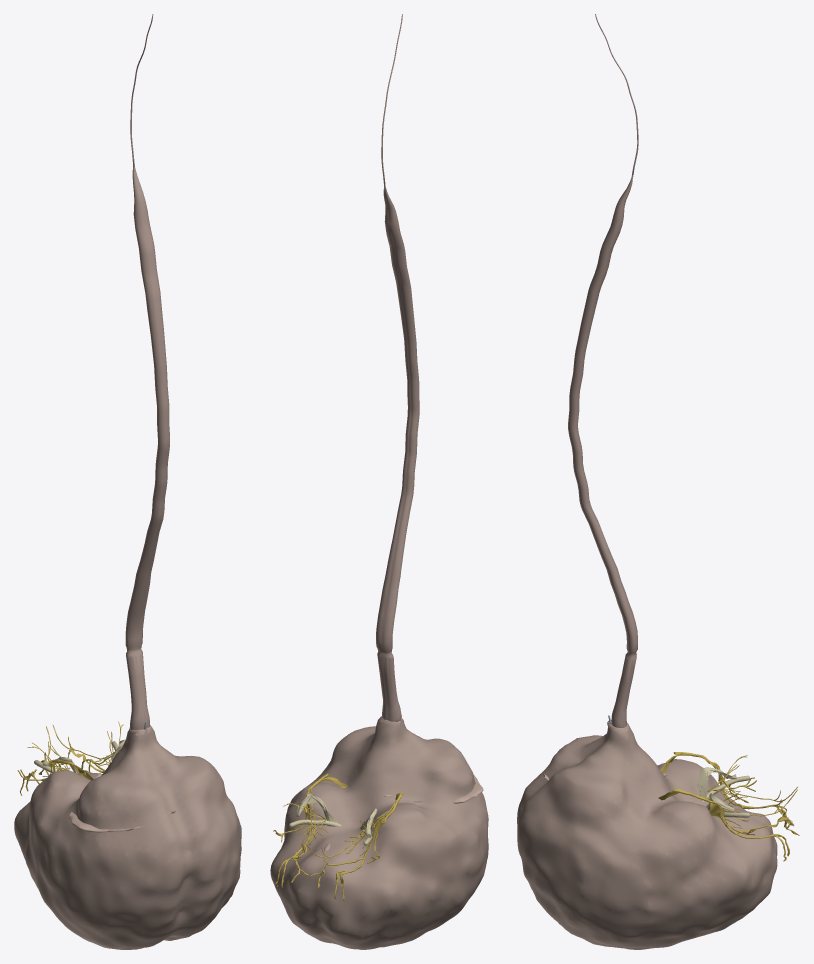
File: nervous.glb
3 views of the same model, side by side, from view 1: azimuth 30°, elevation 25°; view 2: azimuth 150°, elevation 25°; view 3: azimuth 270°, elevation 25° (orthographic). The views are drawn at different scales.
Parts seen in each view (by area): view 1: MOD_arachnoidea_mater, MOD_spinal_cord; view 2: MOD_arachnoidea_mater, MOD_spinal_cord; view 3: MOD_arachnoidea_mater, MOD_spinal_cord.
Boxes of the visible parts, x1,y1,x2,y2 form: MOD_arachnoidea_mater: (14,726,241,949); MOD_spinal_cord: (125,164,169,730); MOD_arachnoidea_mater: (270,716,488,949); MOD_spinal_cord: (376,185,419,721); MOD_arachnoidea_mater: (517,723,777,949); MOD_spinal_cord: (568,175,637,727).
Bounding box in the file's own units: 144 × 718 × 199.
